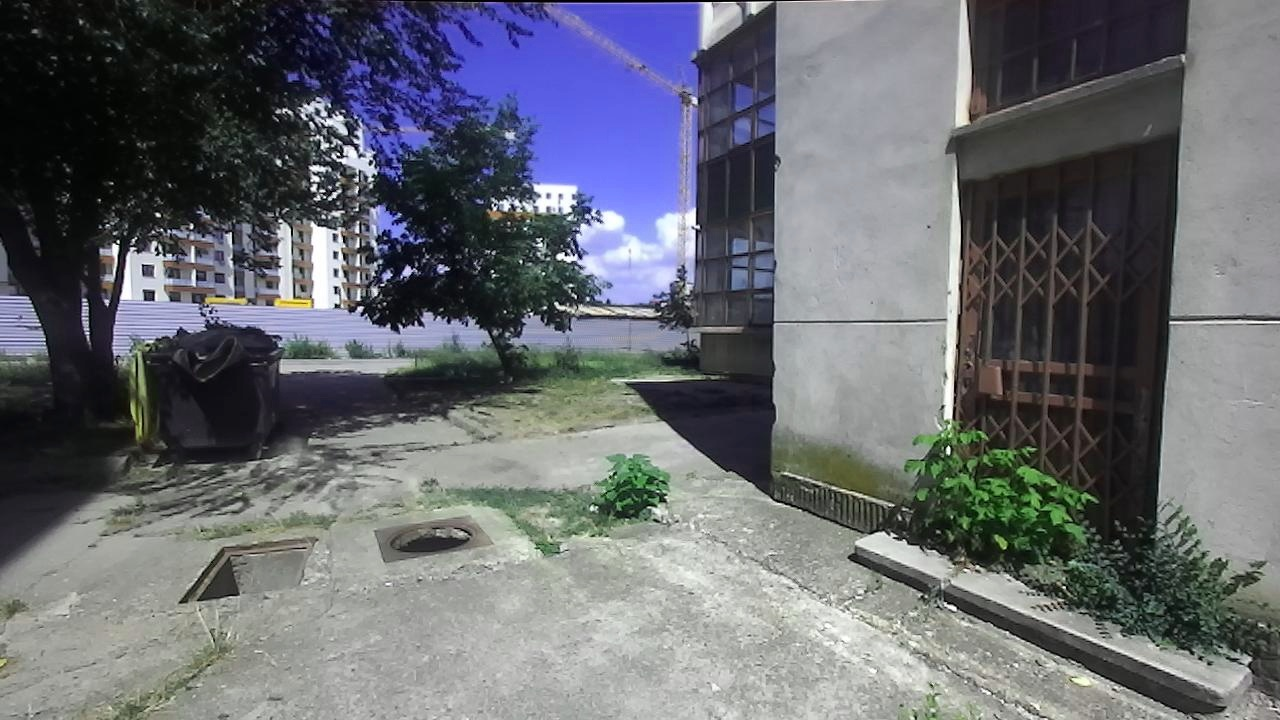drain: (174, 532, 319, 609), (386, 520, 477, 554)
